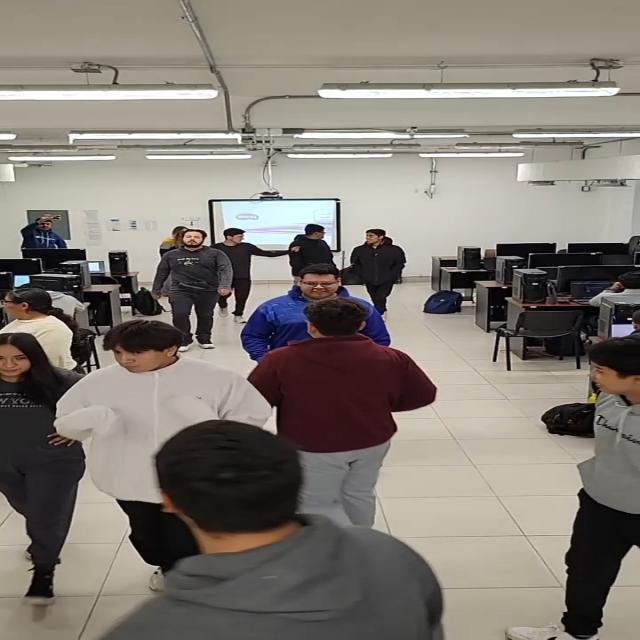Persona: (93, 419, 447, 640), (52, 319, 273, 595), (245, 298, 441, 532), (503, 335, 639, 640), (0, 332, 92, 607), (150, 228, 237, 352), (212, 228, 303, 324), (0, 288, 90, 380), (348, 228, 408, 320), (286, 222, 344, 278), (156, 224, 192, 263)
